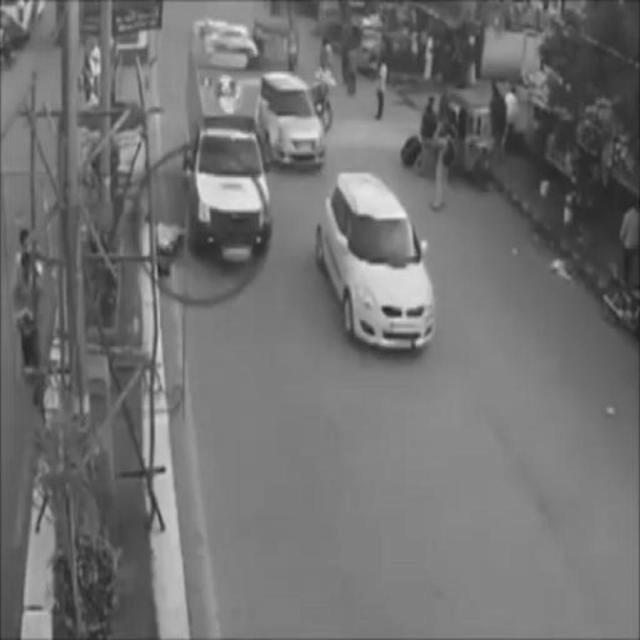person: (15, 258, 41, 382), (431, 133, 451, 213), (370, 55, 388, 117)
vehicle: (320, 173, 434, 353), (191, 109, 268, 269), (264, 71, 326, 171), (439, 87, 494, 189)
